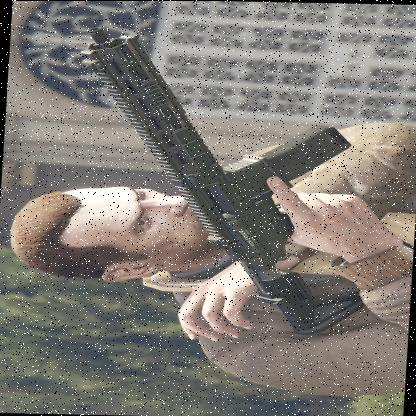rifle: (53, 18, 386, 342)
